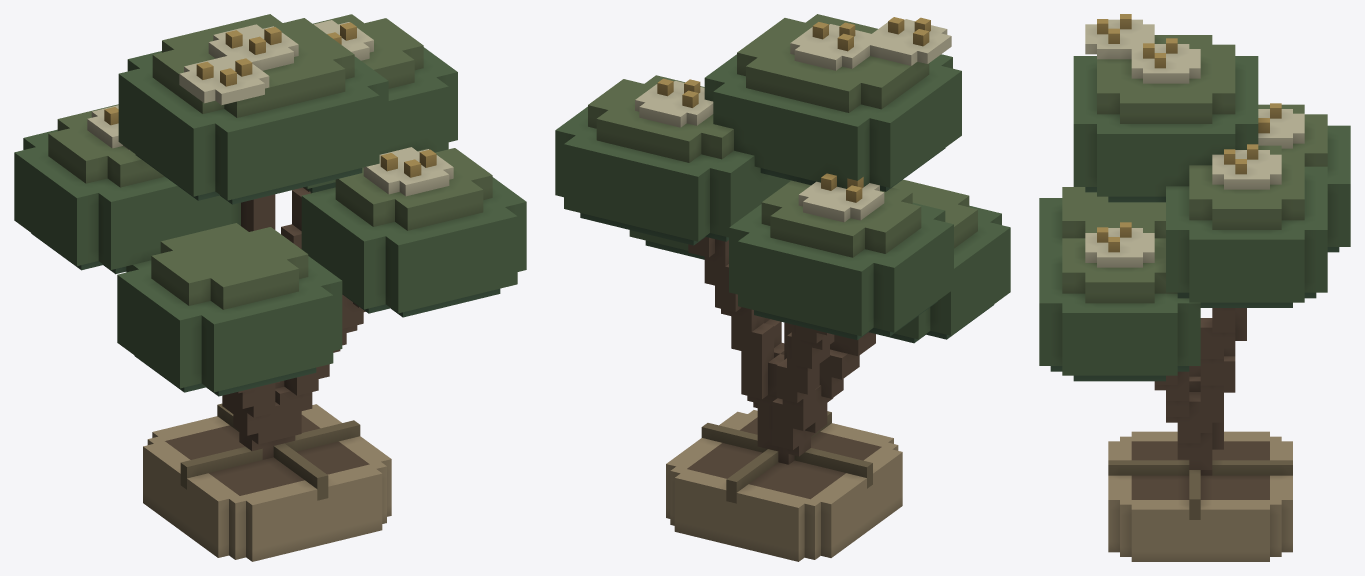
File: elderberry_packed_summer.glb
The picture shows the model from 3 angles, left to right: view 1: azimuth 30°, elevation 25°; view 2: azimuth 150°, elevation 25°; view 3: azimuth 270°, elevation 25°; orthographic projection. The views are drawn at different scales.
Parts seen in each view (by area): view 1: VoxelVisual; view 2: VoxelVisual; view 3: VoxelVisual.
Part boxes in pixels (<box>): VoxelVisual: <box>14,14,526,561</box>; VoxelVisual: <box>555,14,1010,561</box>; VoxelVisual: <box>1039,14,1350,561</box>.
Size of what is drawn, in the model's own units: 2.12 by 2.75 by 1.69.
